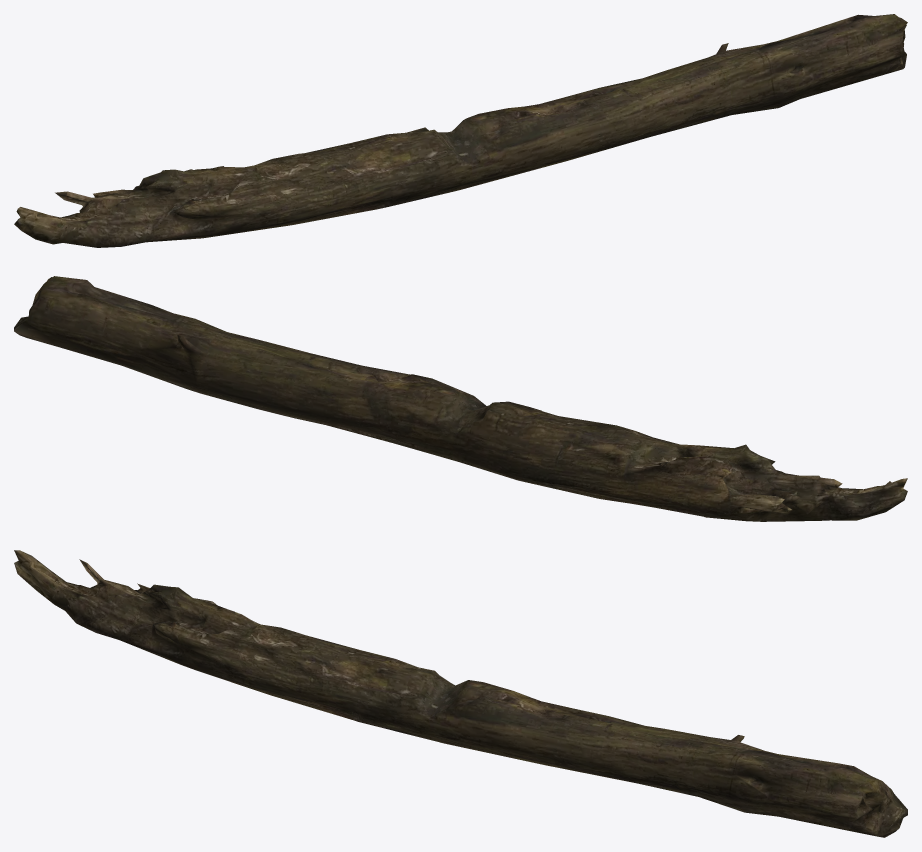
Rendered from driftwood.glb.
The picture shows the model from 3 angles, top to bottom: view 1: azimuth 30°, elevation 25°; view 2: azimuth 150°, elevation 25°; view 3: azimuth 330°, elevation 25°; orthographic projection.
Parts seen in each view (by area): view 1: dead_tree_trunk; view 2: dead_tree_trunk; view 3: dead_tree_trunk.
Boxes of the visible parts, x1,y1,x2,y2 form: dead_tree_trunk: (14,14,907,247); dead_tree_trunk: (14,276,907,521); dead_tree_trunk: (14,550,907,837).
Size of the model in its own units: 3.04 by 0.2869 by 0.275.
1 material, 1 textured.
